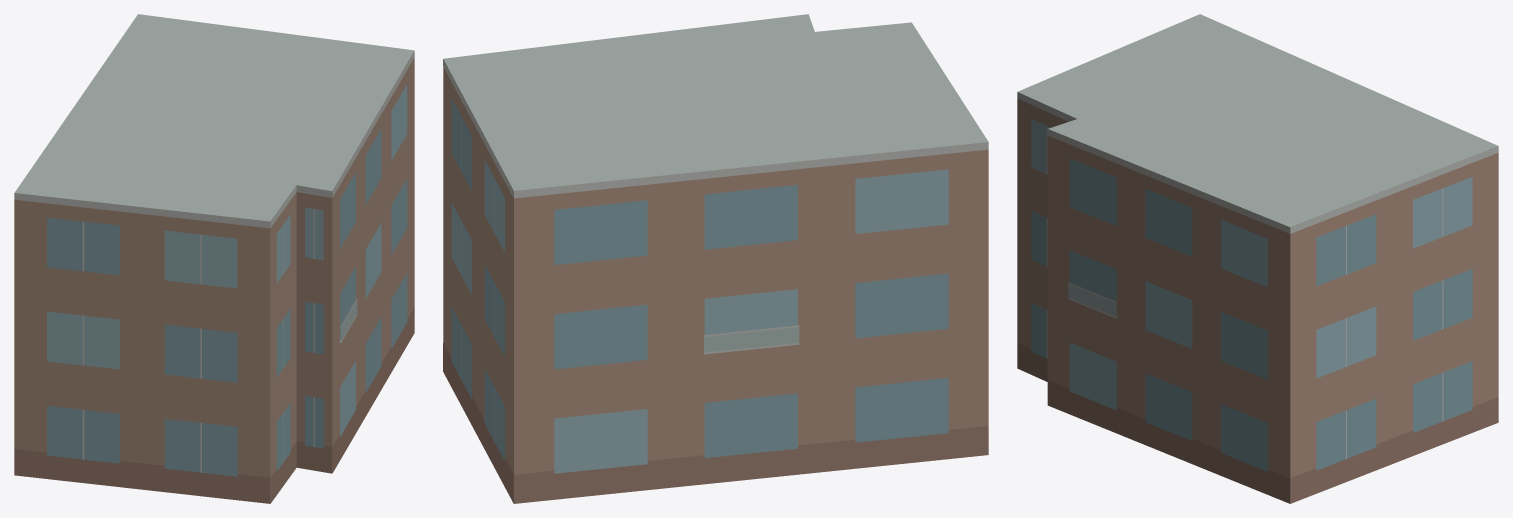
The model's file is survey-upis-32597797.glb.
The picture shows the model from 3 angles, left to right: view 1: azimuth 30°, elevation 25°; view 2: azimuth 150°, elevation 25°; view 3: azimuth 270°, elevation 25°; orthographic projection. The views are drawn at different scales.
Parts seen in each view (by area): view 1: survey-upis-32597797.tmp; view 2: survey-upis-32597797.tmp; view 3: survey-upis-32597797.tmp.
Boxes of the visible parts, box(x1,y1,x2,y2) form: survey-upis-32597797.tmp: box(14, 14, 414, 503); survey-upis-32597797.tmp: box(443, 14, 988, 503); survey-upis-32597797.tmp: box(1017, 14, 1498, 503).
Bounding box in the file's own units: 16.8 × 10.15 × 16.02.
